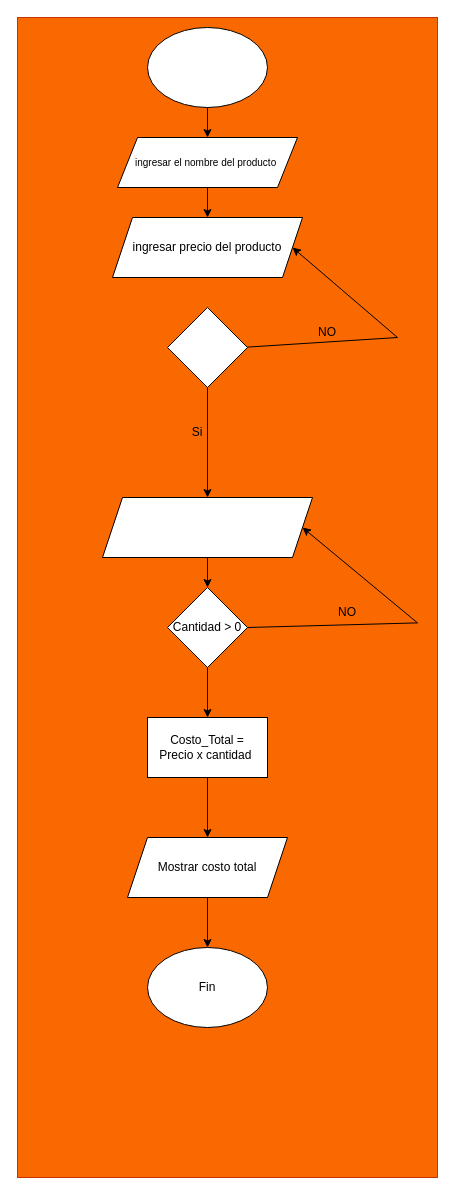
Image size: 455x1195. Some labels were removed from this diagram. Here are the shapes that lost their labels. From the top down, the centre of each, then its label:
At pixel 207 67: "inicio".
At pixel 207 347: "precio > 0".
At pixel 207 527: "ingresar cantidad de productos".
